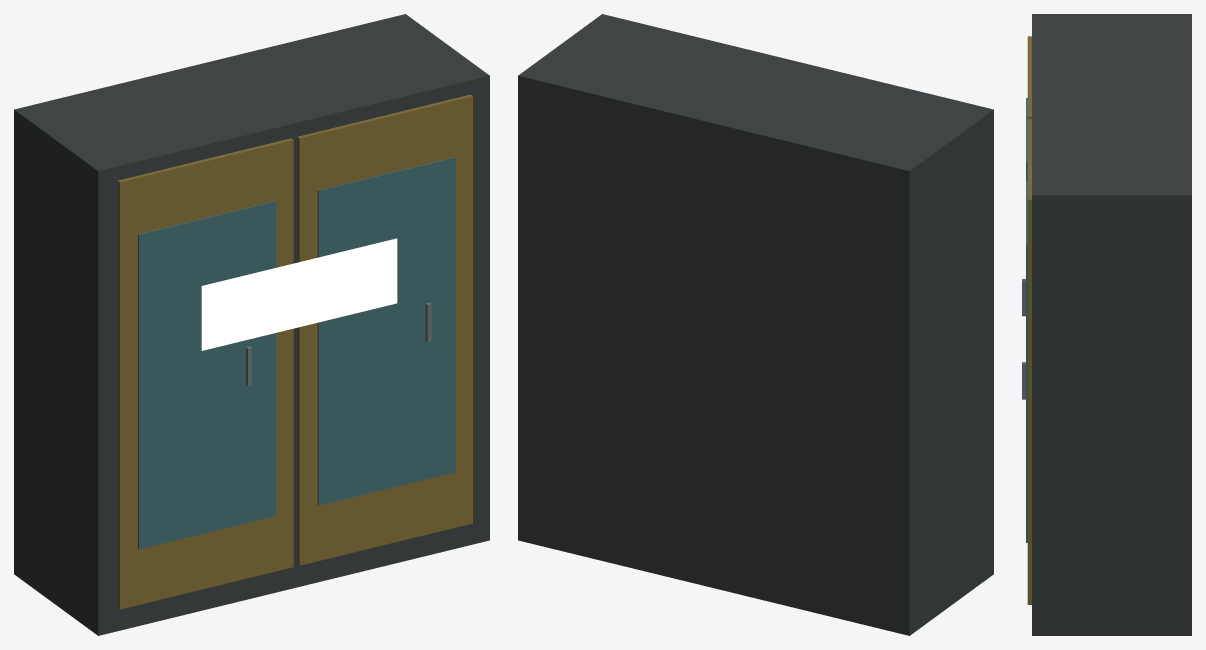
The model's file is fridge.glb.
3 views of the same model, side by side, from view 1: azimuth 30°, elevation 25°; view 2: azimuth 150°, elevation 25°; view 3: azimuth 270°, elevation 25° (orthographic). The views are drawn at different scales.
Parts seen in each view (by area): view 1: body, door_left, door_right, emissive_panel; view 2: body; view 3: body, door_right, door_left.
Boxes of the visible parts, box(x1,y1,x2,y2) form: body: box(14, 14, 489, 635); door_left: box(117, 138, 293, 609); door_right: box(297, 94, 472, 565); emissive_panel: box(201, 238, 397, 350); body: box(518, 14, 993, 635); body: box(1032, 14, 1191, 635); door_right: box(1022, 119, 1031, 604); door_left: box(1022, 36, 1031, 316).
Bounding box in the file's own units: 1.75 × 1.98 × 0.6921.
Materials: 2 (2 with a texture image).
